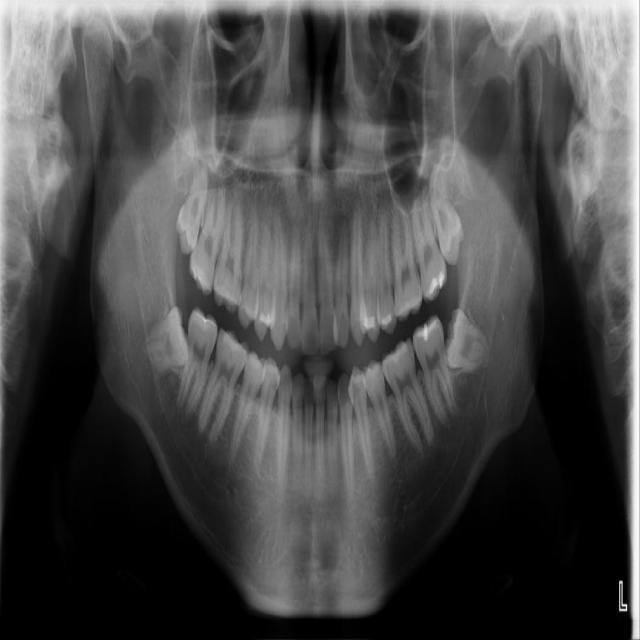3M ESPE Implant: (170, 145, 216, 257)
52: (403, 312, 455, 369), (184, 230, 221, 297), (183, 306, 220, 367), (417, 242, 450, 303), (252, 279, 278, 342), (358, 291, 381, 343), (376, 286, 398, 335)
73: (538, 572, 546, 592)
BioHorizons Implant: (405, 185, 452, 304)
BioLife Implant: (425, 181, 471, 267)
Blue Sky Bio Implant: (409, 312, 460, 430), (438, 306, 497, 376)
Caries: (184, 175, 230, 298)
Implant: (173, 305, 222, 426), (176, 397, 177, 409)
Keystone Dental Implant: (132, 305, 197, 378)
